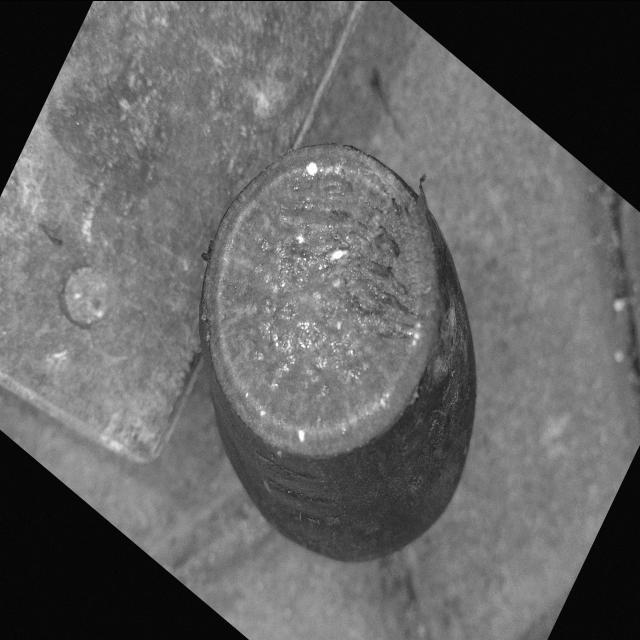Healthy Sweet Potato: (200, 142, 439, 455)
